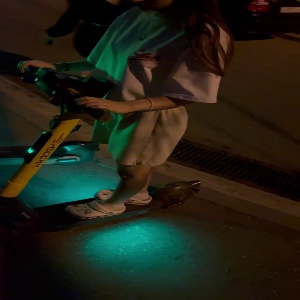human on a scooter: (1, 1, 235, 240)
